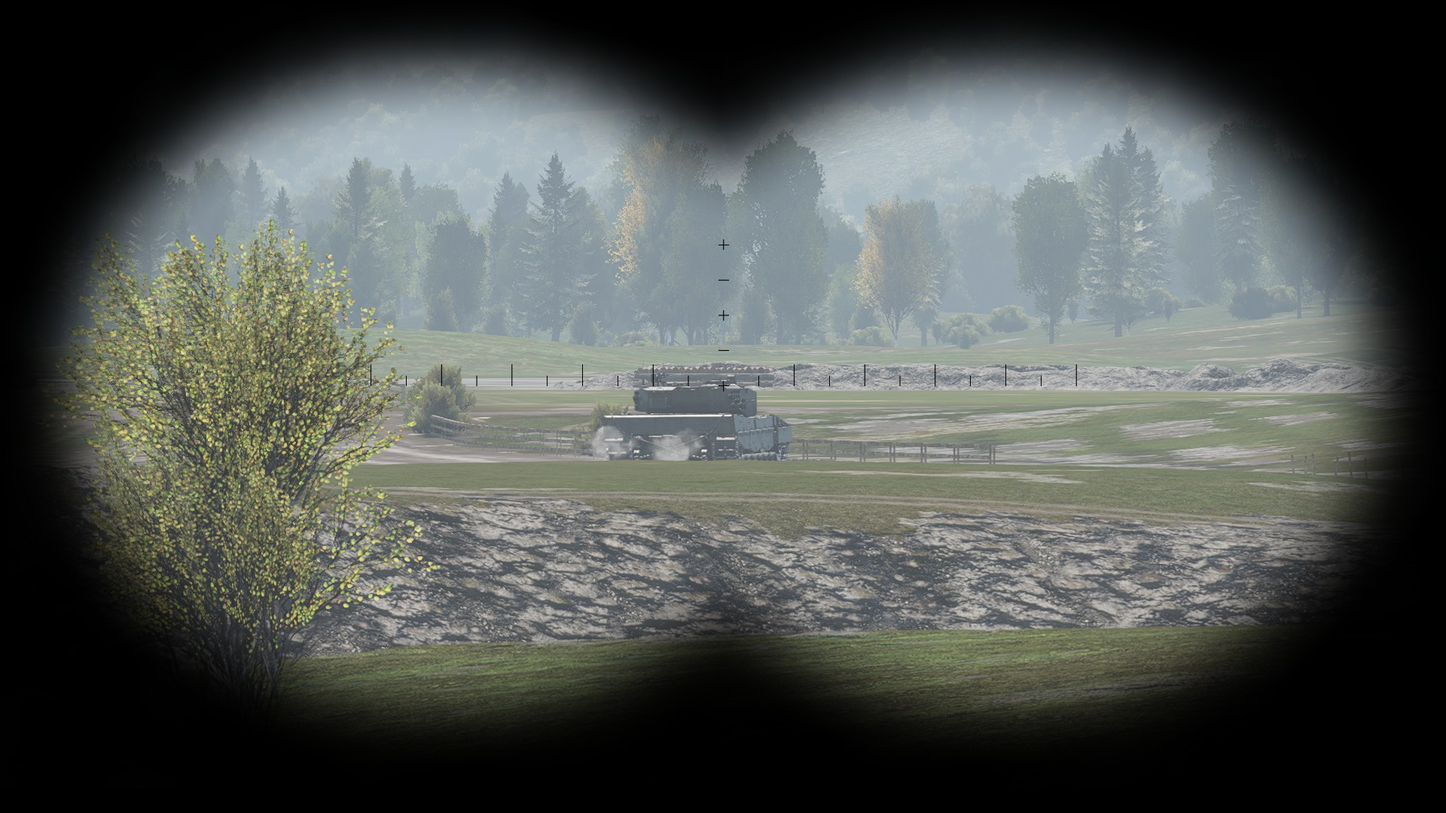leopard2: (602, 374, 792, 462)
